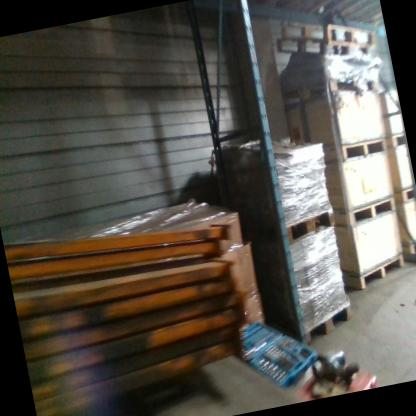pallet: (279, 7, 379, 65), (274, 19, 371, 74), (235, 203, 337, 253), (282, 68, 379, 108), (337, 245, 408, 295), (300, 296, 357, 348), (331, 195, 399, 231), (322, 133, 390, 166), (392, 183, 416, 205), (385, 130, 406, 150), (400, 238, 416, 264)
